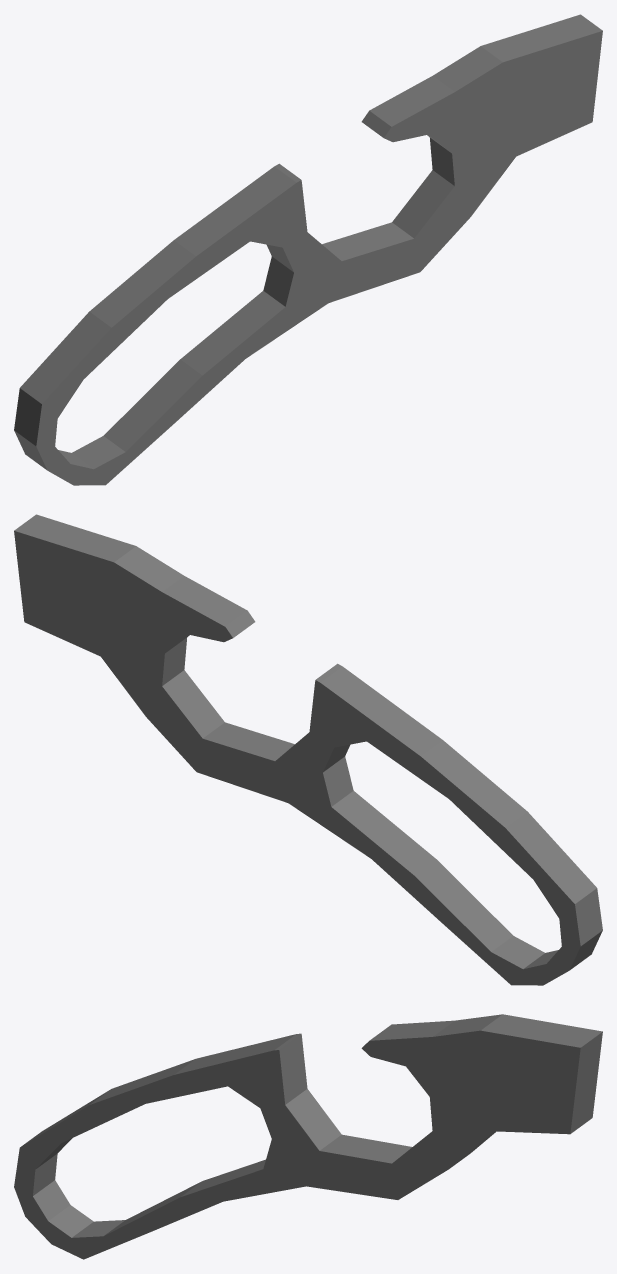
Rendered from SniperRifle5_02_2.fbx.
3 views of the same model, one above another, from view 1: azimuth 30°, elevation 25°; view 2: azimuth 150°, elevation 25°; view 3: azimuth 330°, elevation 25° (orthographic).
Parts seen in each view (by area): view 1: SniperRifle5_02_2; view 2: SniperRifle5_02_2; view 3: SniperRifle5_02_2.
Part boxes in pixels (bbox=[...]): SniperRifle5_02_2: bbox=[14, 14, 602, 485]; SniperRifle5_02_2: bbox=[14, 514, 602, 985]; SniperRifle5_02_2: bbox=[14, 1014, 602, 1259].
Size of the model in its own units: 0.175 by 0.0983 by 0.0119.
